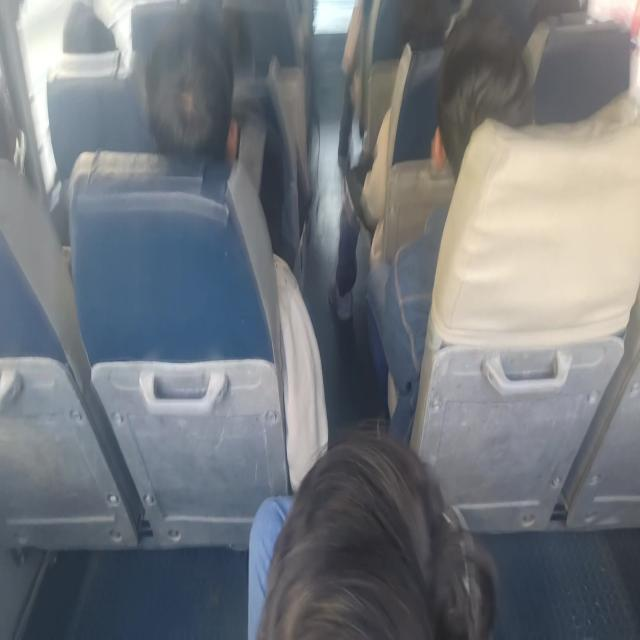person: (268, 440, 497, 640), (437, 34, 536, 170), (150, 34, 242, 175), (56, 0, 120, 59), (389, 0, 449, 61)
